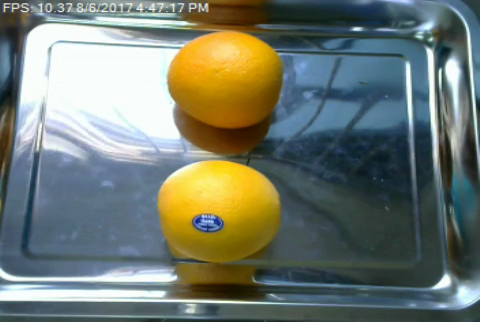Orange: (156, 159, 280, 263), (165, 30, 282, 127)
